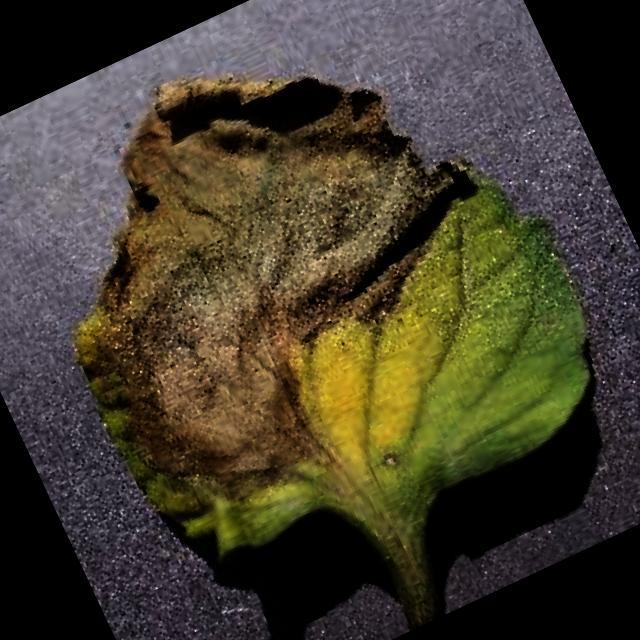Tomato late blight leaf: (0, 0, 640, 613)
